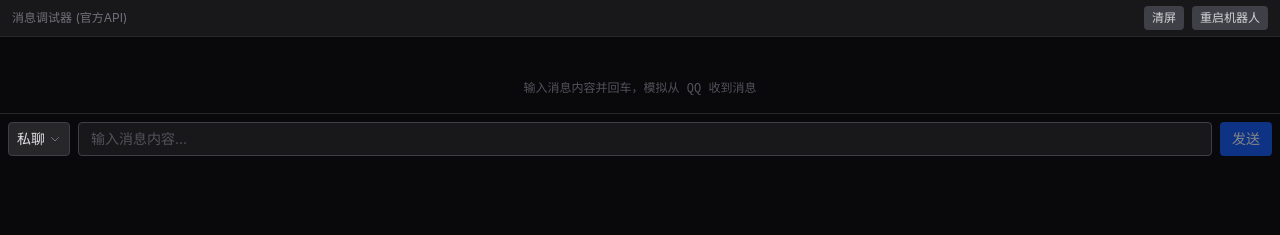
Test: ConsolePanel - 官方 API 消息调试器 › 切到群聊后按群聊注入
Click the dropdown named "消息类型" at coordinates (39, 139), box [8,122,70,156]
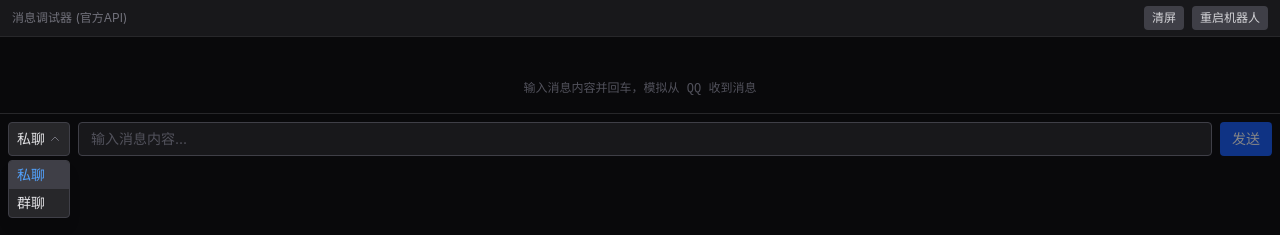
Click the option "群聊" at coordinates (39, 203), box [9,189,69,217]
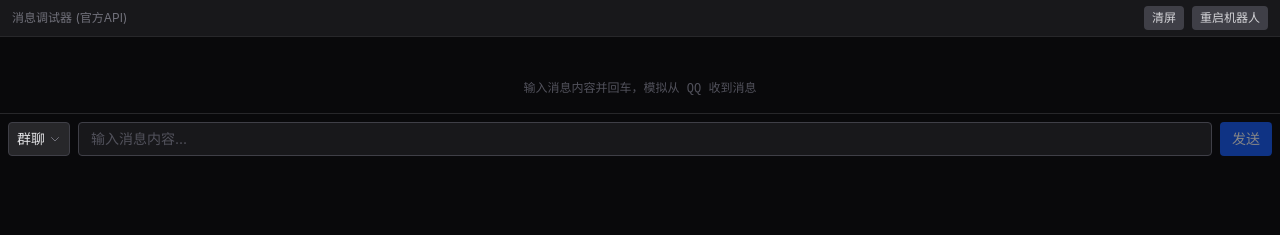
Type "大家好" into the field named "测试消息输入框" at coordinates (645, 139), box [78,122,1212,156]
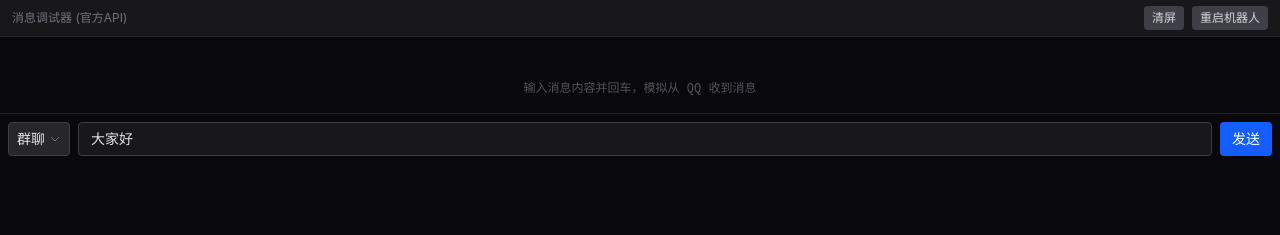
Click the button "发送" at coordinates (1246, 139), box [1220,122,1272,156]
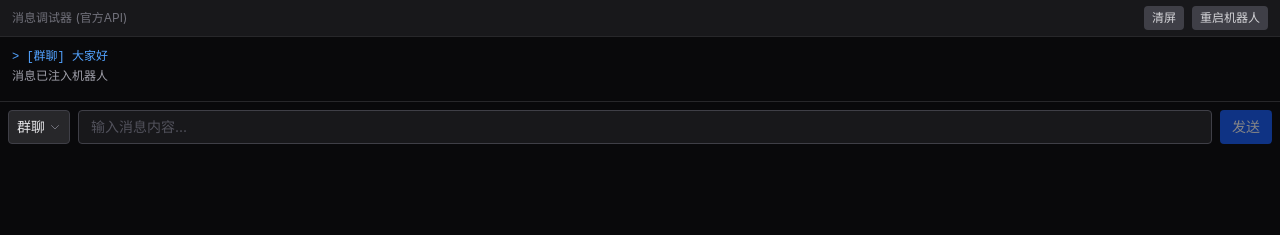
Expected: the text "> [群聊] 大家好" is shown, [12,50,108,64]
